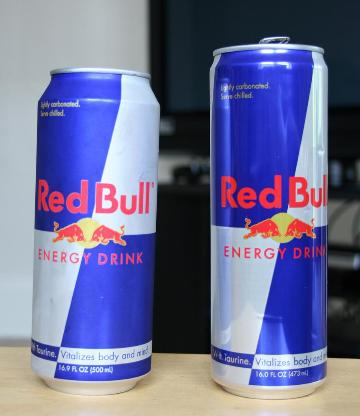Can: (201, 34, 335, 408), (31, 65, 162, 396)
